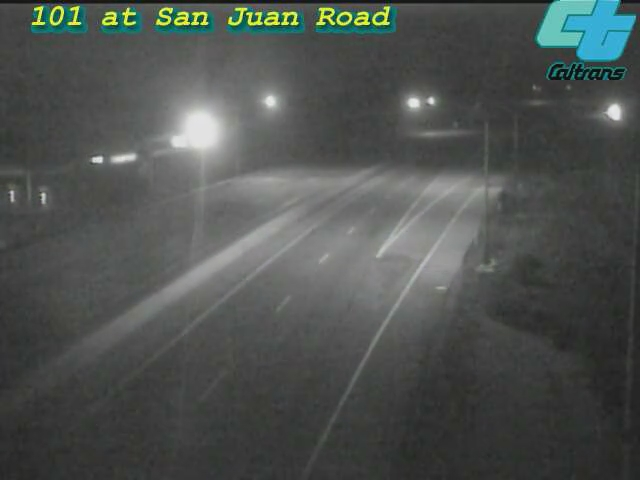vehicle: (588, 87, 638, 137)
